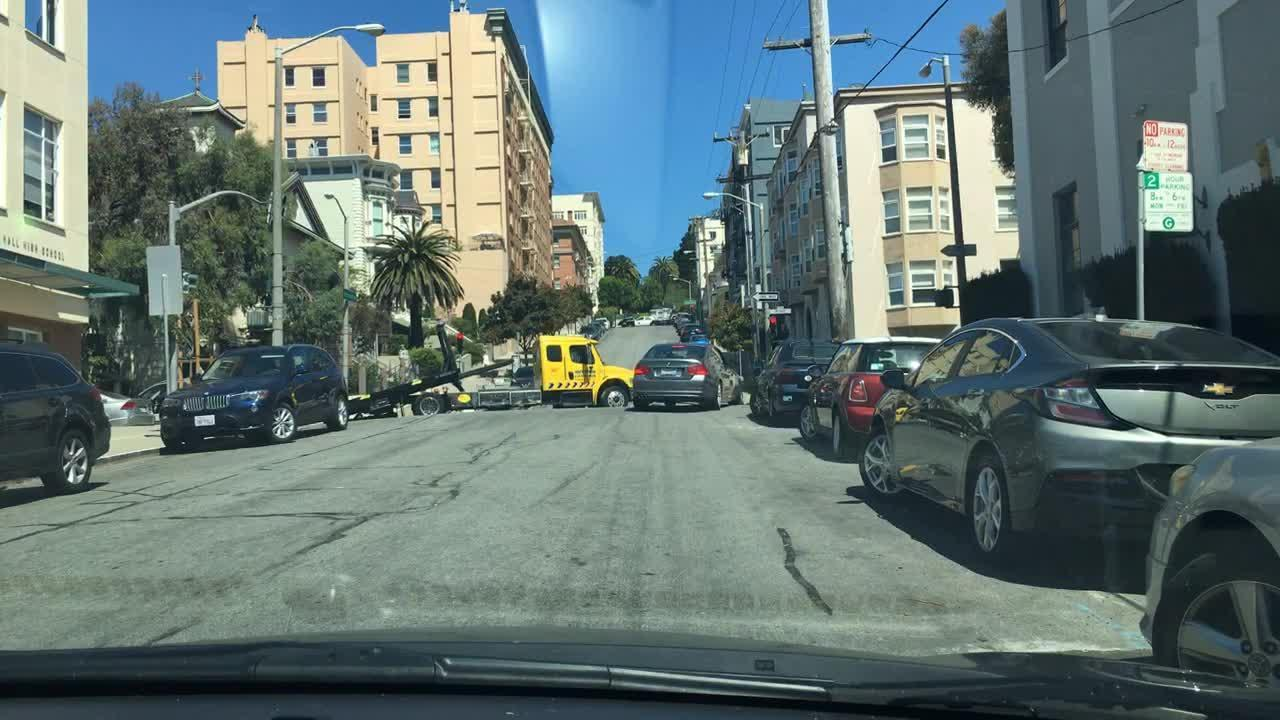chevrolet: (1193, 371, 1247, 407)
